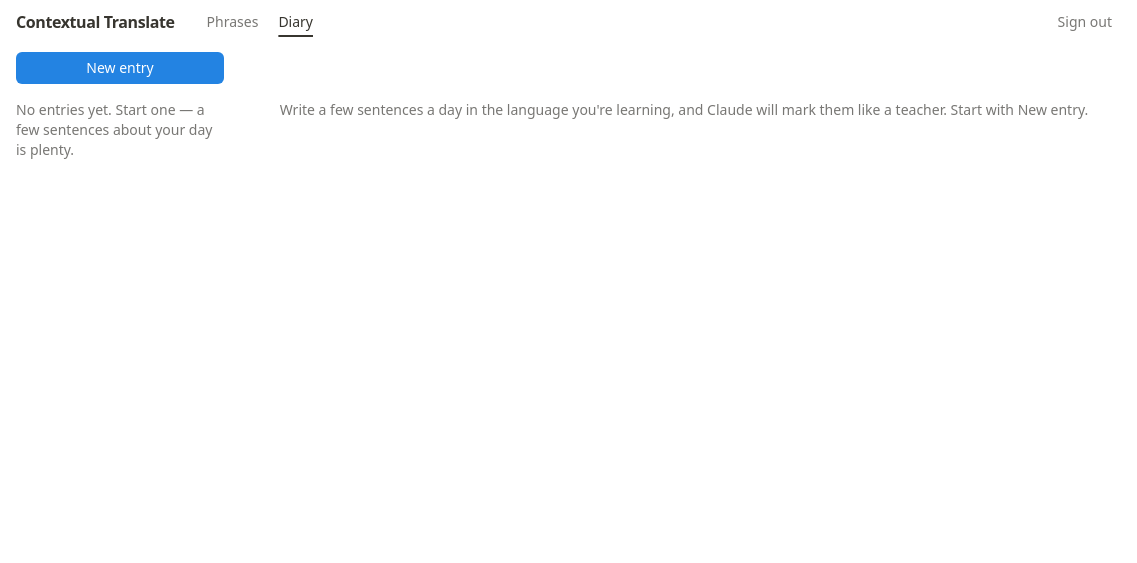
Scenario: DiaryPage › gets feedback and draws each sentence's verdict, with the entry's notes beside it
The image size is (1137, 563).
Click the button "New entry".
click(120, 68)  # box [16,52,224,84]
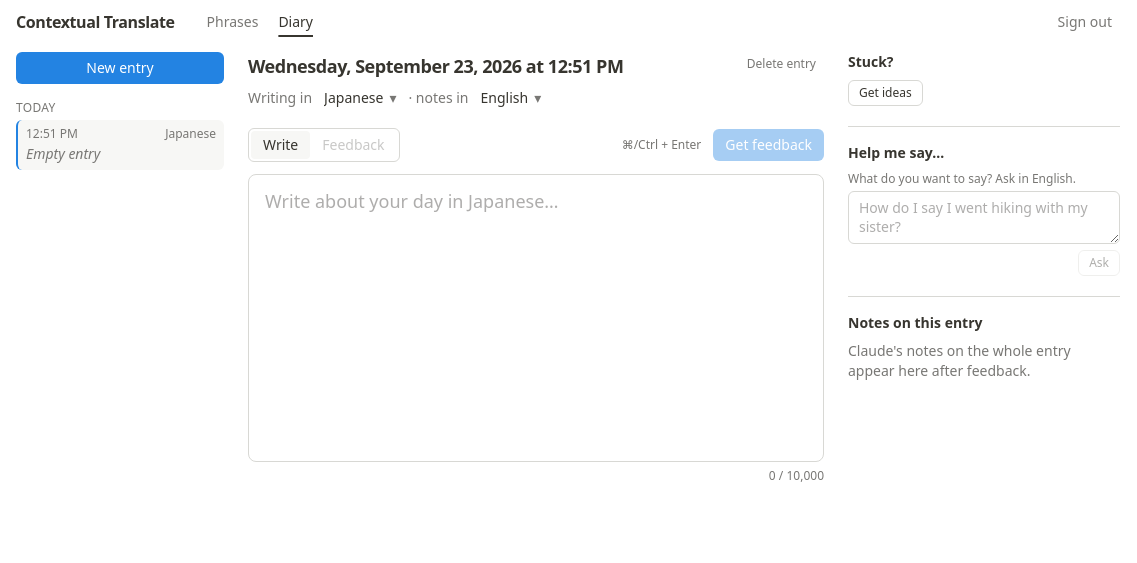
Type "山を行きました。楽しかったです。" into the text box named "Diary entry".
click(536, 318); type("山を行きました。楽しかったです。")  # box [248,174,824,462]
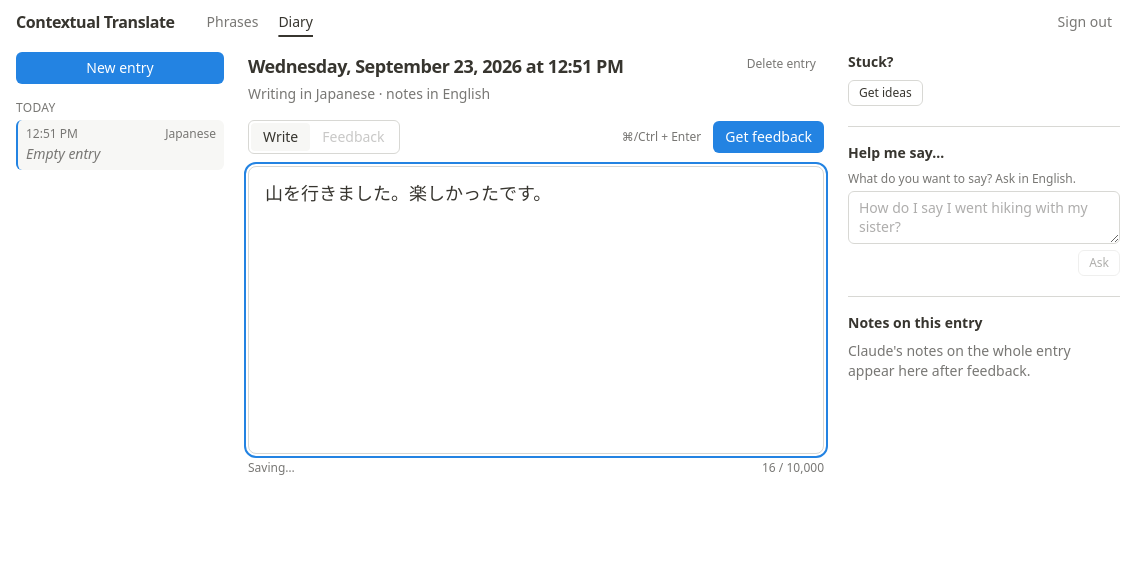
Click the button "Get feedback".
click(769, 137)  # box [713,121,824,153]
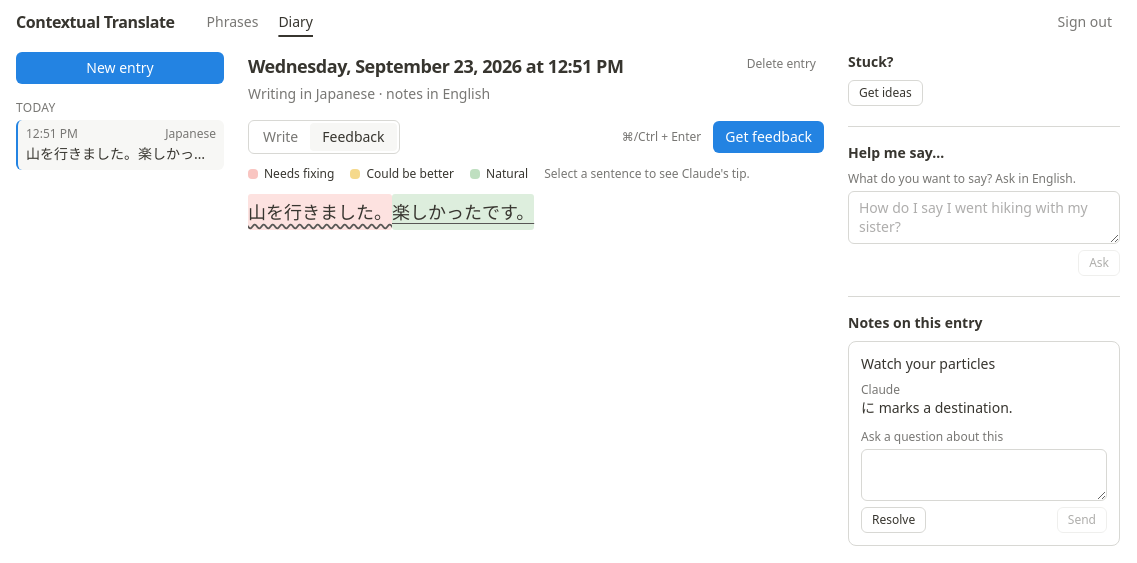
Result: the button with aria-label "Needs fixing: 山を行きました。" is shown at [248,194,392,230]
Result: the button with aria-label "Natural: 楽しかったです。" is shown at [392,194,534,230]
Result: the text "Watch your particles" is shown at [861,354,995,372]
